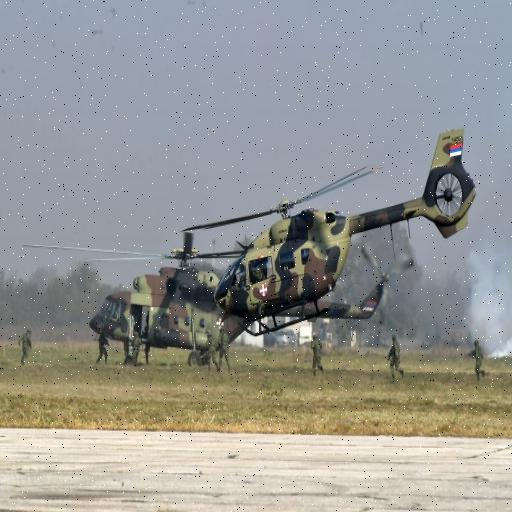helicopter: (156, 104, 444, 354), (77, 239, 316, 378)
